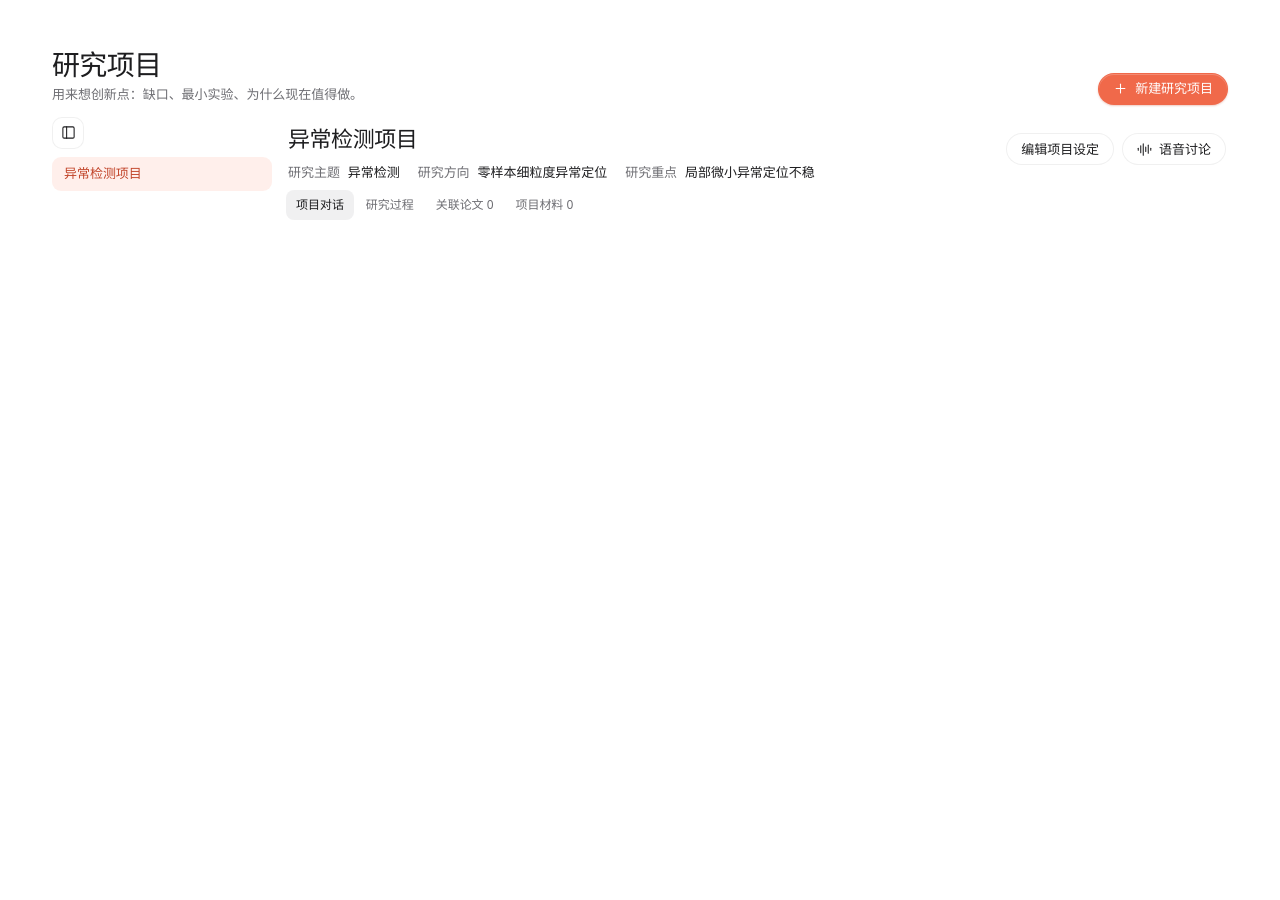
it: shows the project brief and lets the user edit the three settings on an existing project
The width and height of the screenshot is (1280, 900).
Later steps or results of the test are not shown.
Expected: the element showing "研究主题 异常检测 研究方向 零样本细粒度异常定位 研究重点 局部微小异常定位不稳" is shown, [288,163,815,182]
Click the button "编辑项目设定": (1060, 149) [1006,133,1114,165]
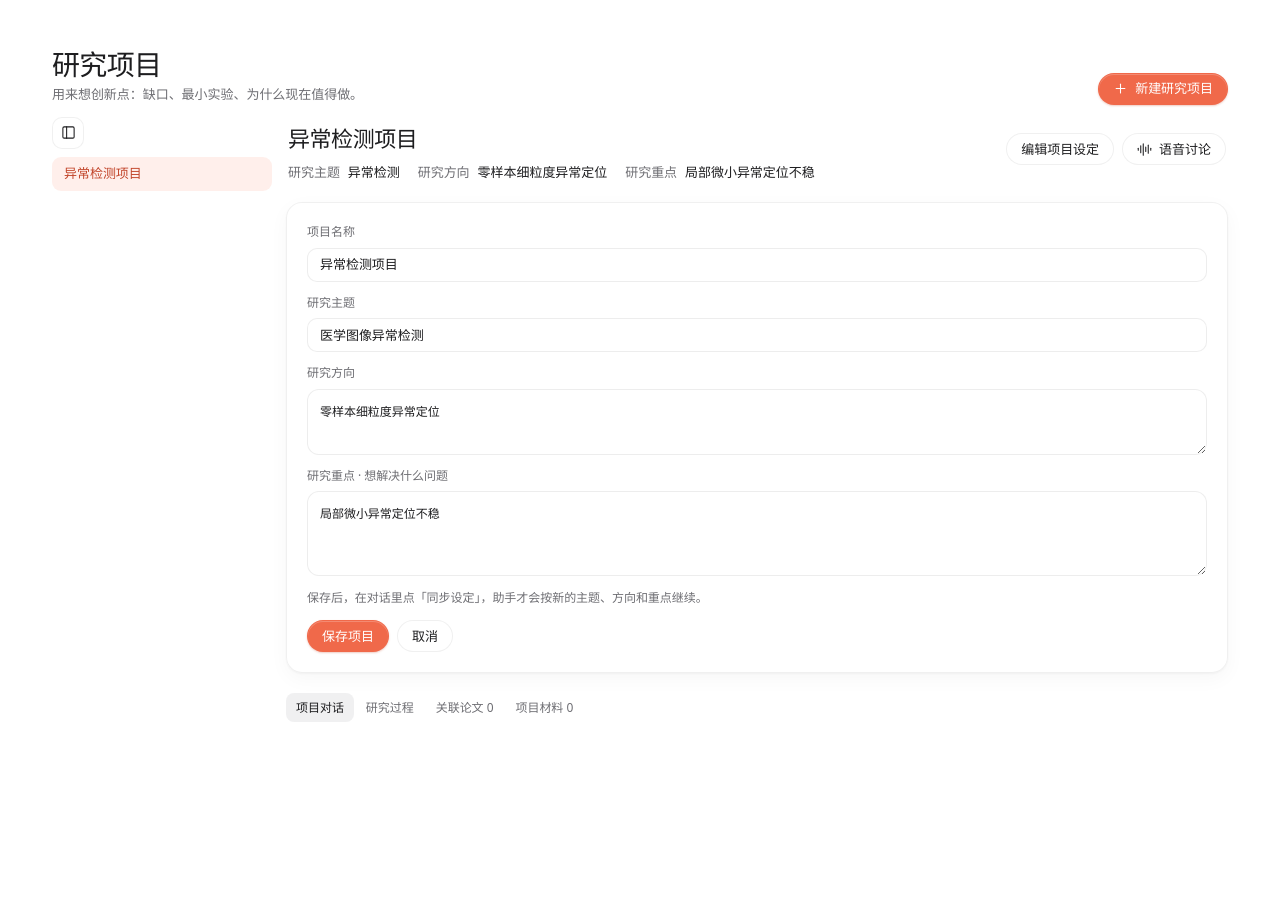
Expected: the text box named "direction" holds "零样本细粒度异常定位", [307,389,1207,454]
Expected: the text box named "question" holds "局部微小异常定位不稳", [307,491,1207,576]
